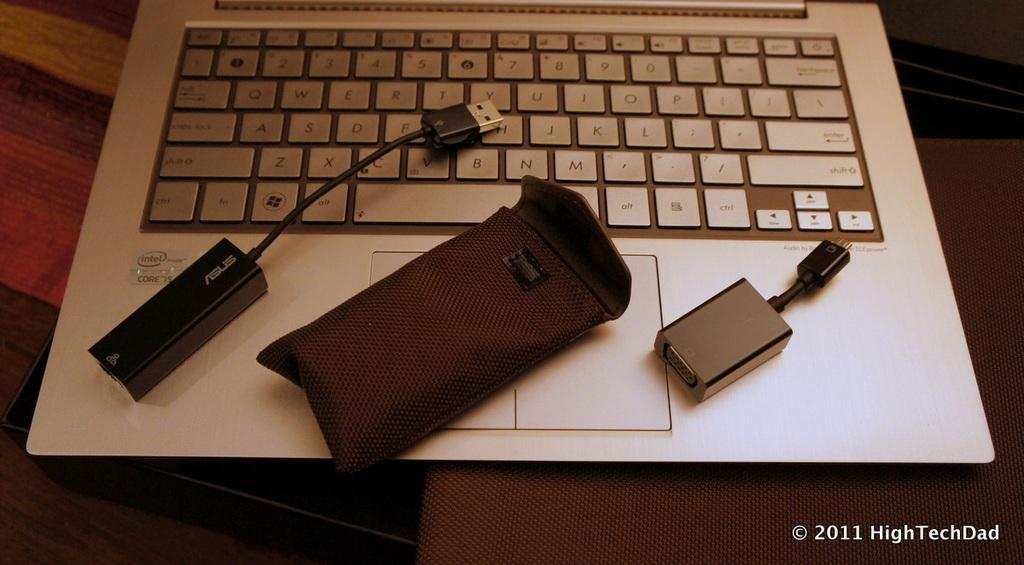Computer-keyboard: (148, 24, 881, 236)
